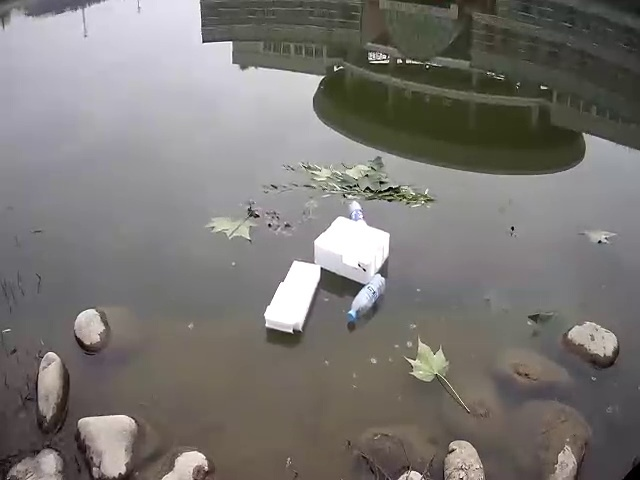bottle: (342, 270, 385, 328), (344, 202, 378, 229)
leaf: (277, 159, 434, 208), (401, 334, 450, 382), (206, 208, 259, 244), (581, 222, 622, 248), (519, 312, 556, 337)
paomo: (313, 217, 391, 281), (265, 257, 323, 333)
